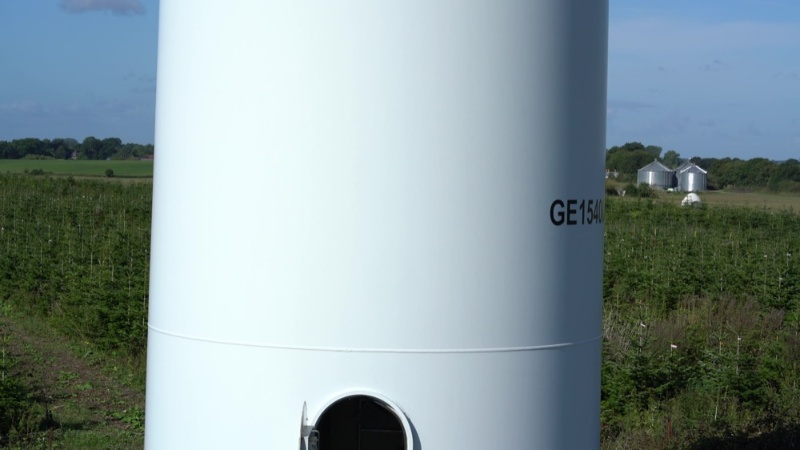weldseam: (146, 314, 603, 358)
